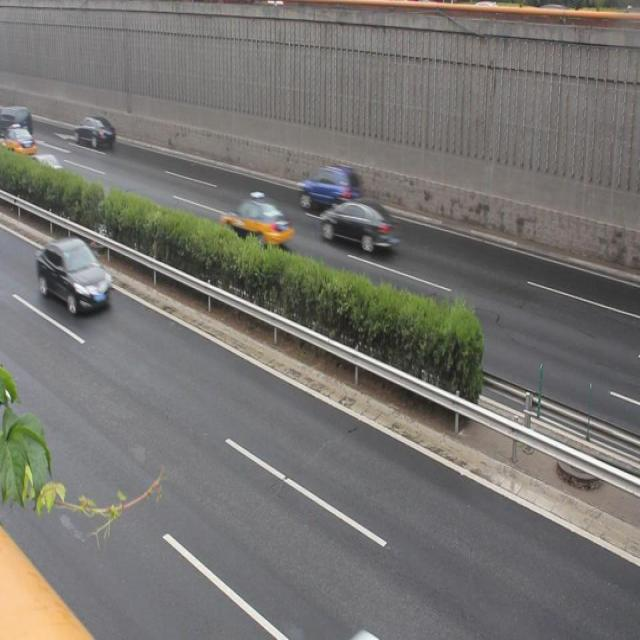car: (35, 238, 113, 314), (318, 200, 398, 255), (219, 196, 294, 248), (297, 165, 363, 214), (70, 116, 116, 154)
